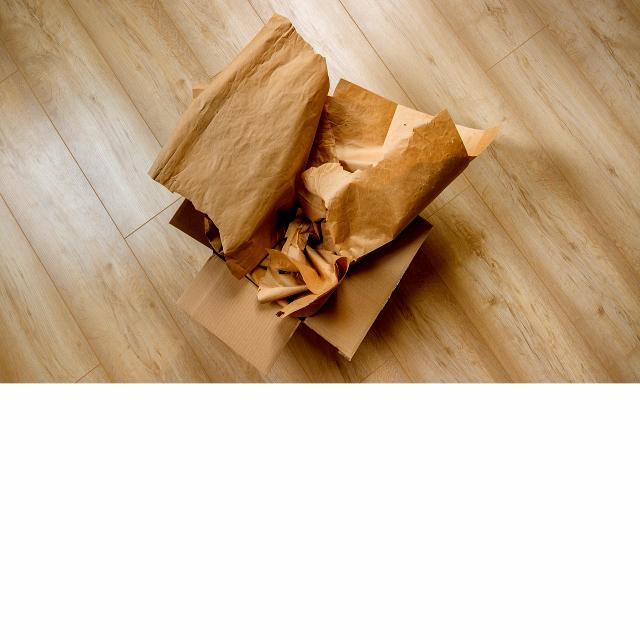Cardboard: (128, 16, 491, 377)
